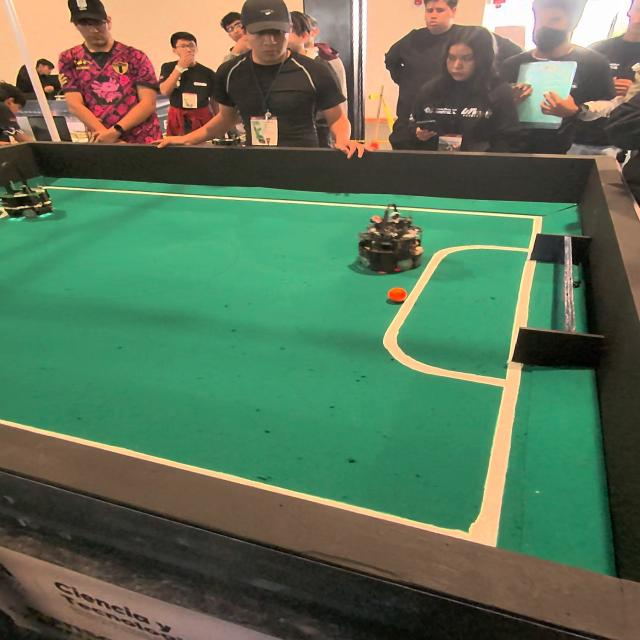Robot: (353, 203, 428, 277), (0, 144, 56, 232)
pelota: (385, 285, 408, 303)
